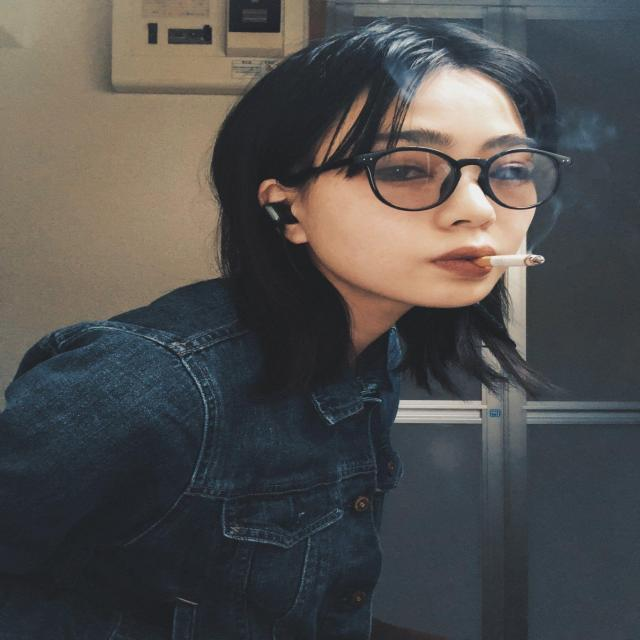rokok: (473, 254, 545, 270)
